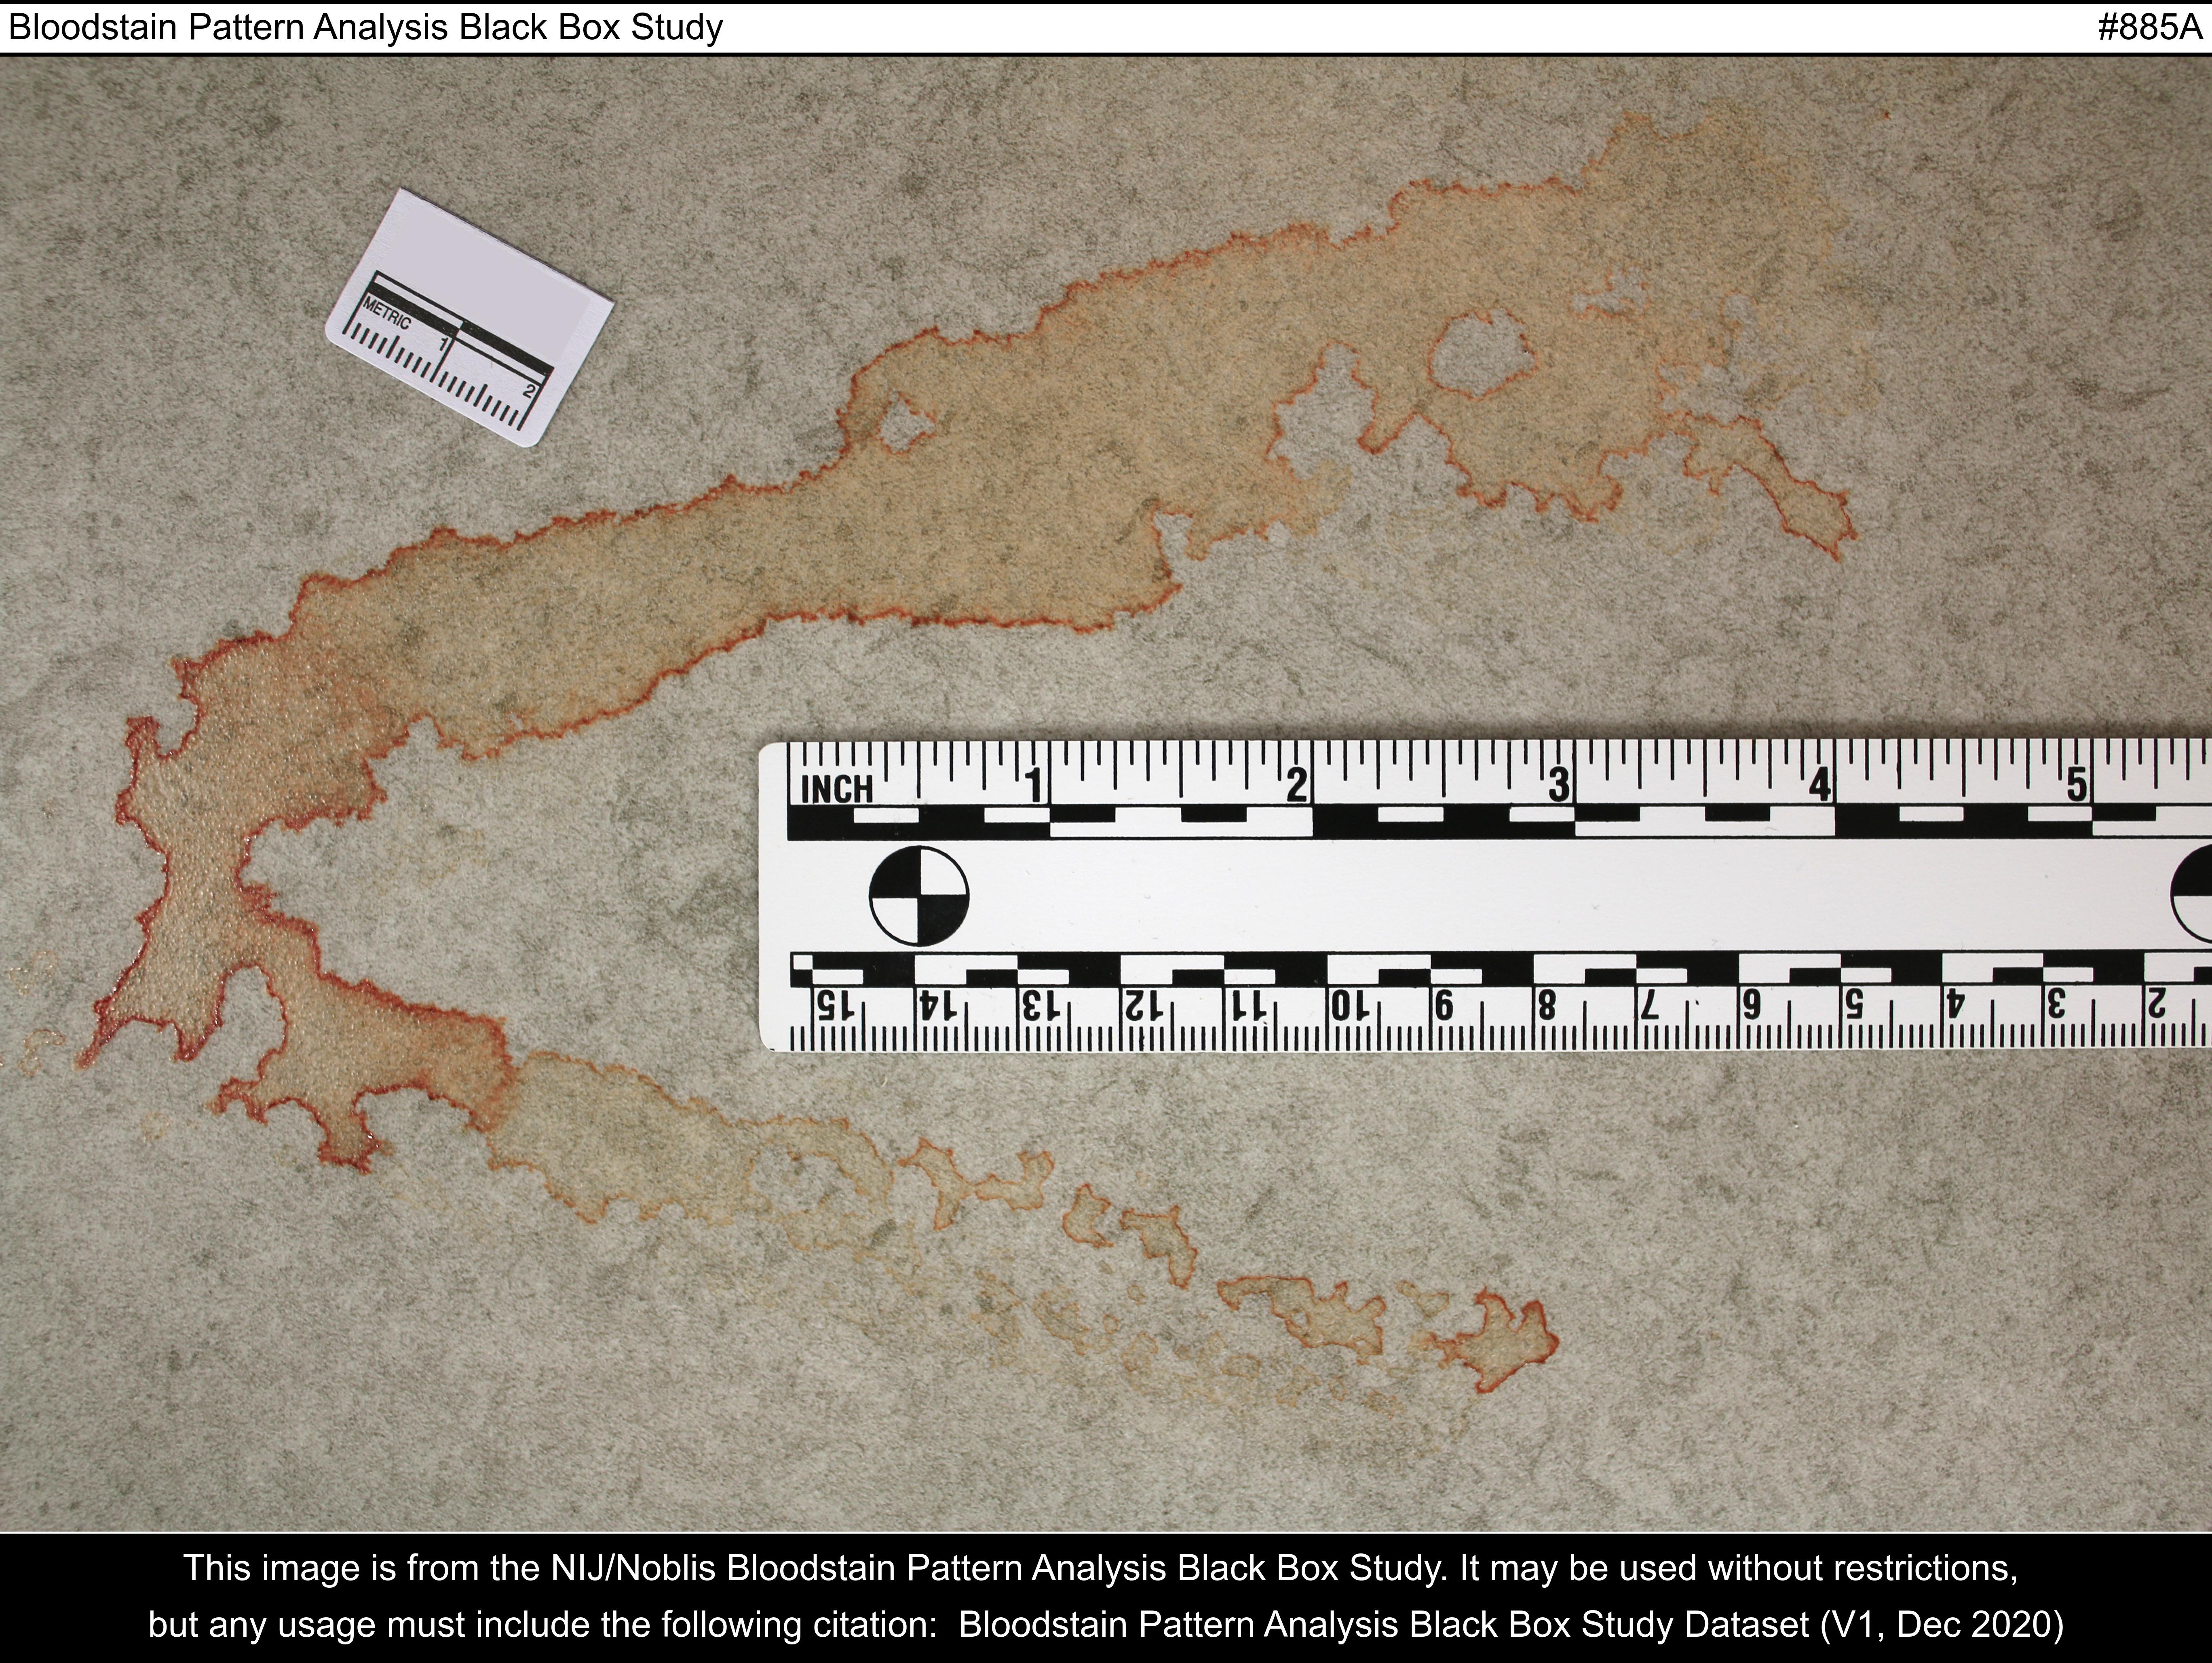Transfer: (70, 89, 2025, 1422)
